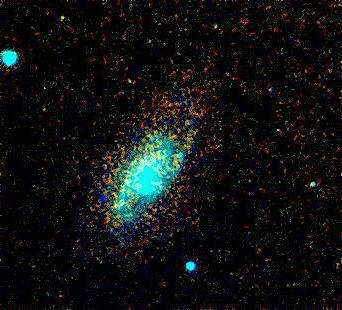star: (88, 181, 118, 211)
